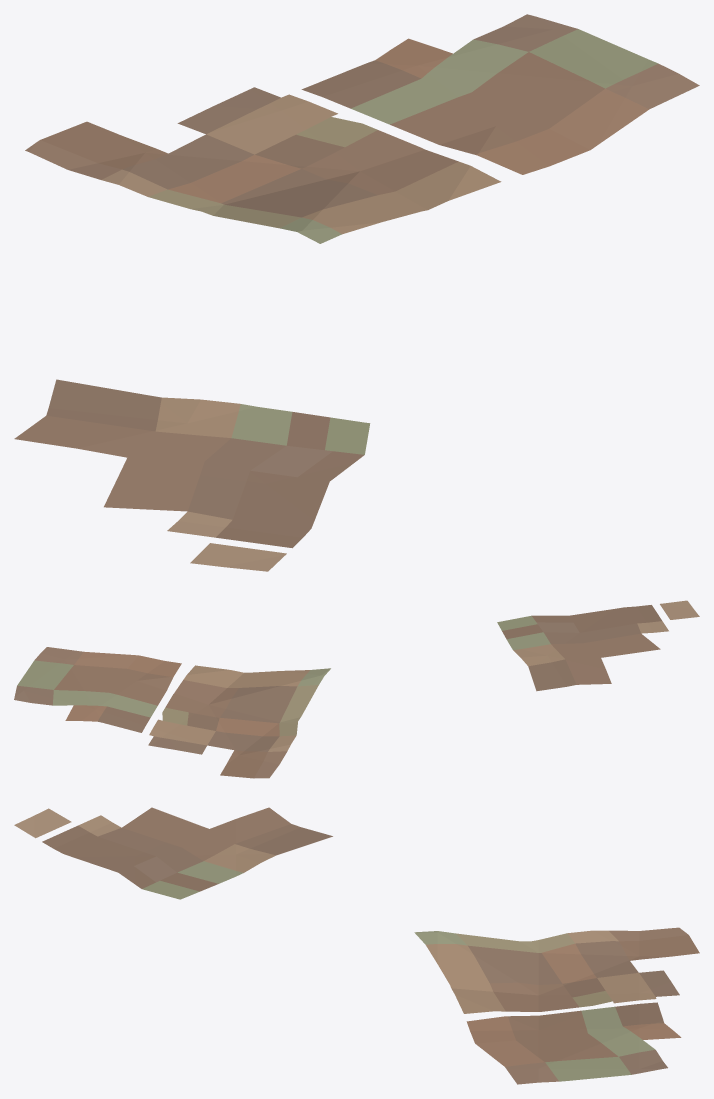
Rendered from farm_-35_-29_soil.glb.
3 views of the same model, one above another, from view 1: azimuth 30°, elevation 25°; view 2: azimuth 150°, elevation 25°; view 3: azimuth 270°, elevation 25° (orthographic). The views are drawn at different scales.
Visible parts, largest first — view 1: geometry_0; view 2: geometry_0; view 3: geometry_0.
Part boxes in pixels (left/top/right/bottom): geometry_0: left=14, top=14, right=699, bottom=571; geometry_0: left=14, top=600, right=699, bottom=778; geometry_0: left=14, top=807, right=699, bottom=1084.
Bounding box in the file's own units: 518 × 21.25 × 544.
